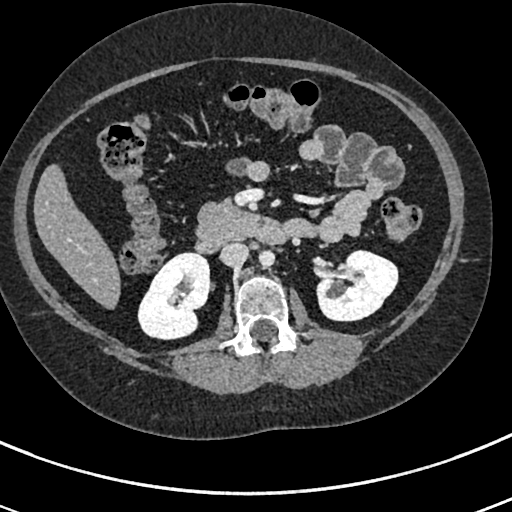Lesion: (325, 276, 349, 301)
